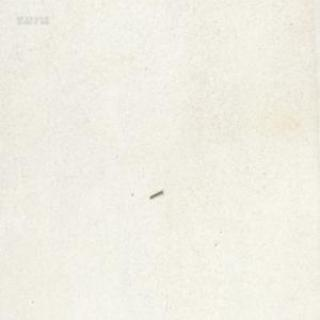Bolttrack_idkeyframe: (148, 188, 162, 199)
